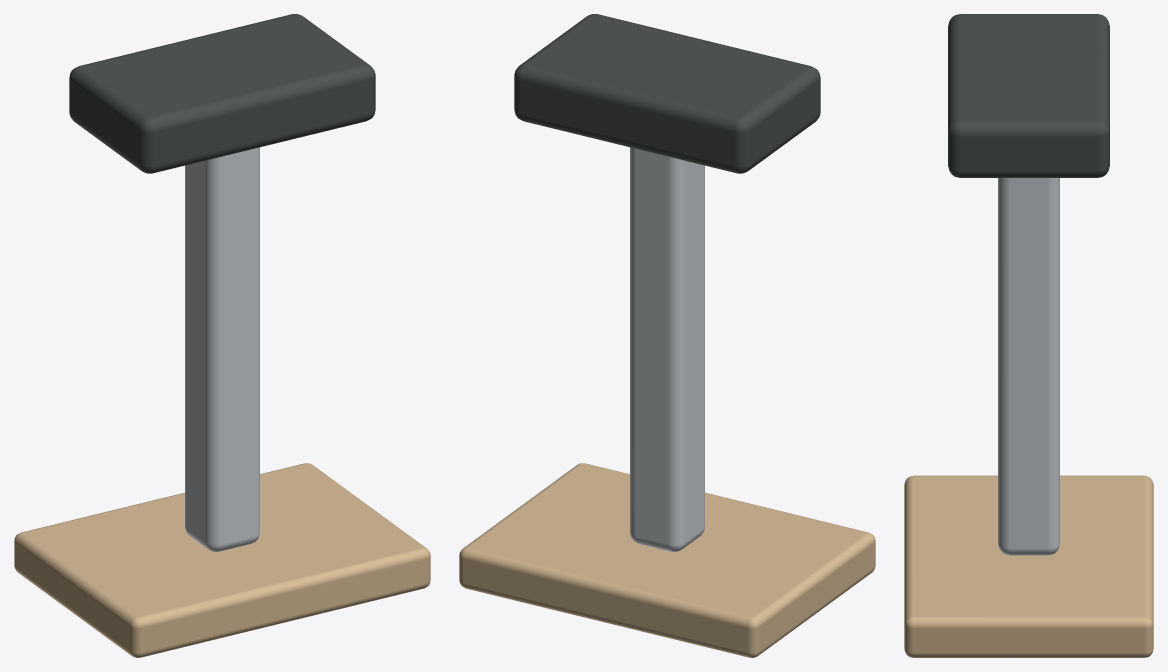
Rendered from hearing-aid-and-audiology-clinic-headphone-storage-cra-c7522221__31726.glb.
3 renders of one model, left to right at view 1: azimuth 30°, elevation 25°; view 2: azimuth 150°, elevation 25°; view 3: azimuth 270°, elevation 25°, orthographic.
Visible parts, largest first — view 1: headphone-storage-cradle; view 2: headphone-storage-cradle; view 3: headphone-storage-cradle.
Part boxes in pixels (bbox=[...]): headphone-storage-cradle: bbox=[14, 14, 430, 657]; headphone-storage-cradle: bbox=[459, 14, 875, 657]; headphone-storage-cradle: bbox=[904, 14, 1153, 657].
Size of the model in its own units: 0.14 by 0.23 by 0.1.
